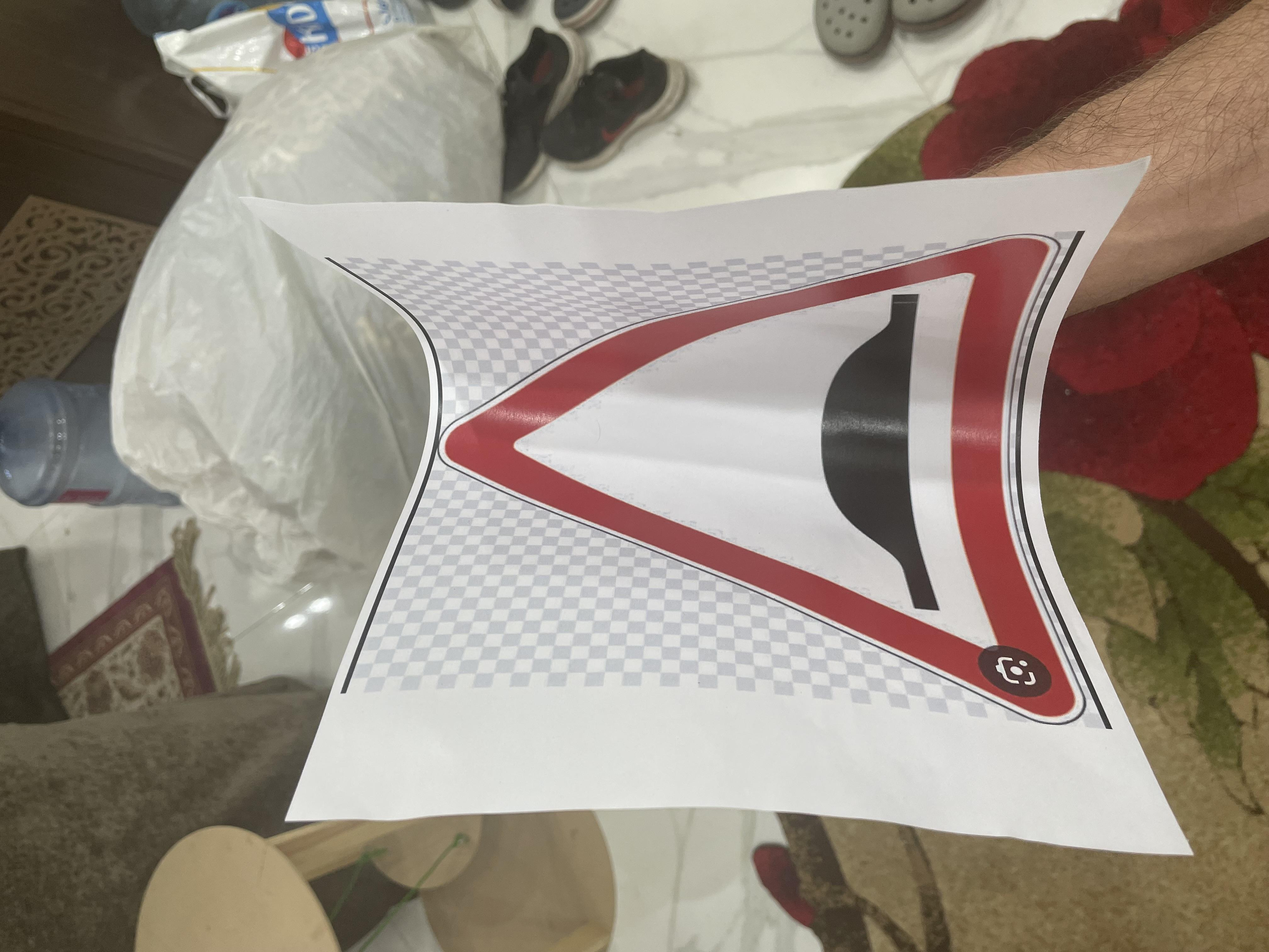Hump: (294, 331, 974, 808)
